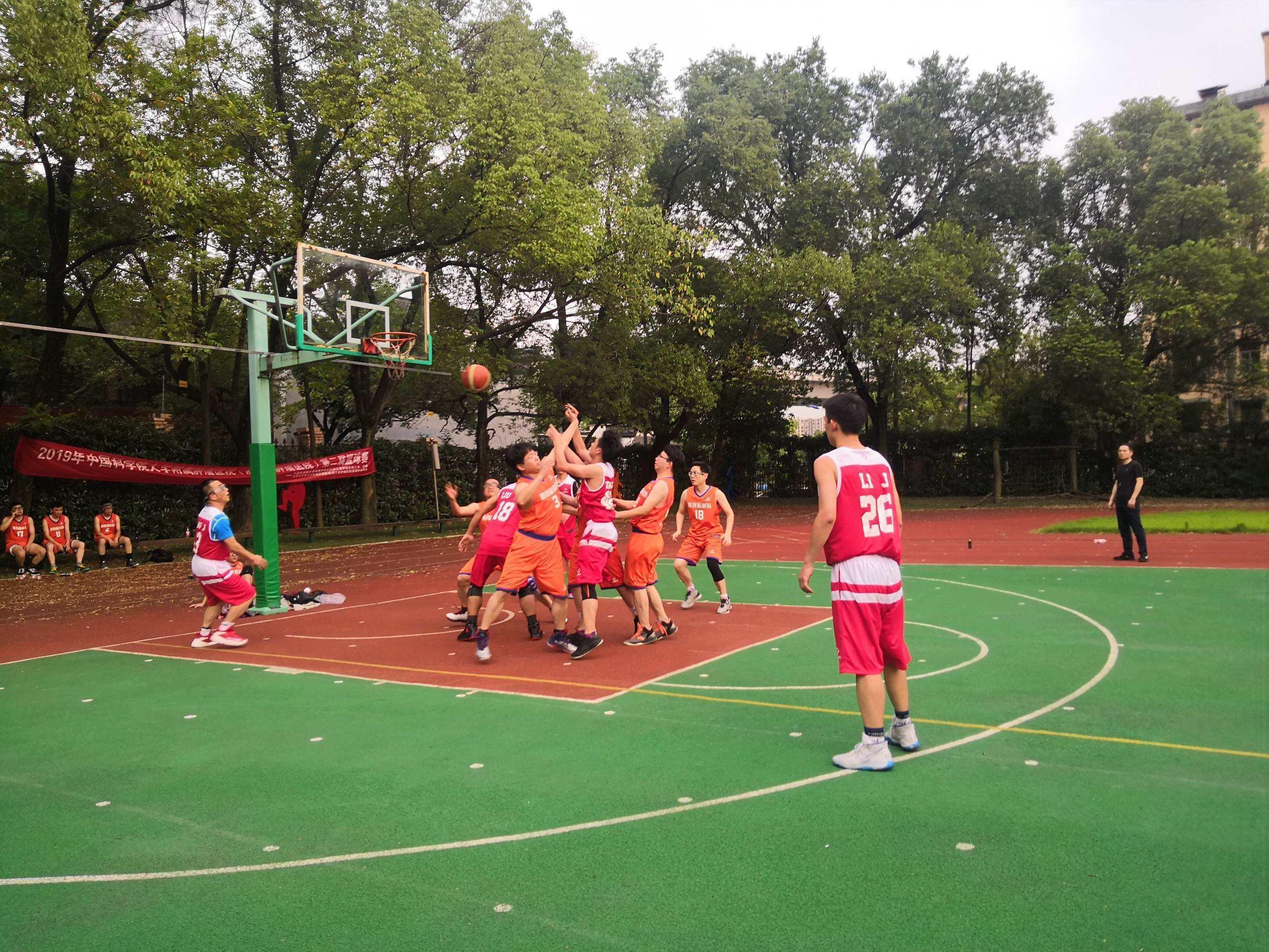ball: (462, 363, 491, 392)
human: (797, 392, 922, 769), (506, 408, 586, 658), (191, 478, 267, 648), (573, 431, 625, 657), (624, 443, 680, 646), (684, 461, 736, 611), (484, 478, 521, 646), (1107, 444, 1152, 563)
rim: (372, 332, 418, 378)
